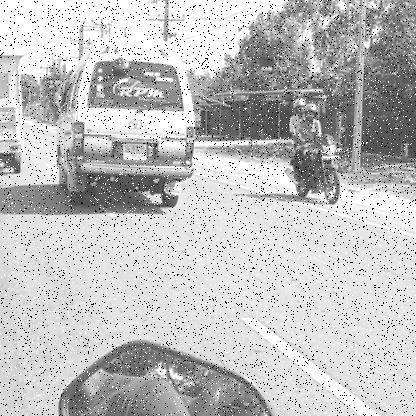motorcycle: (280, 132, 346, 210)
